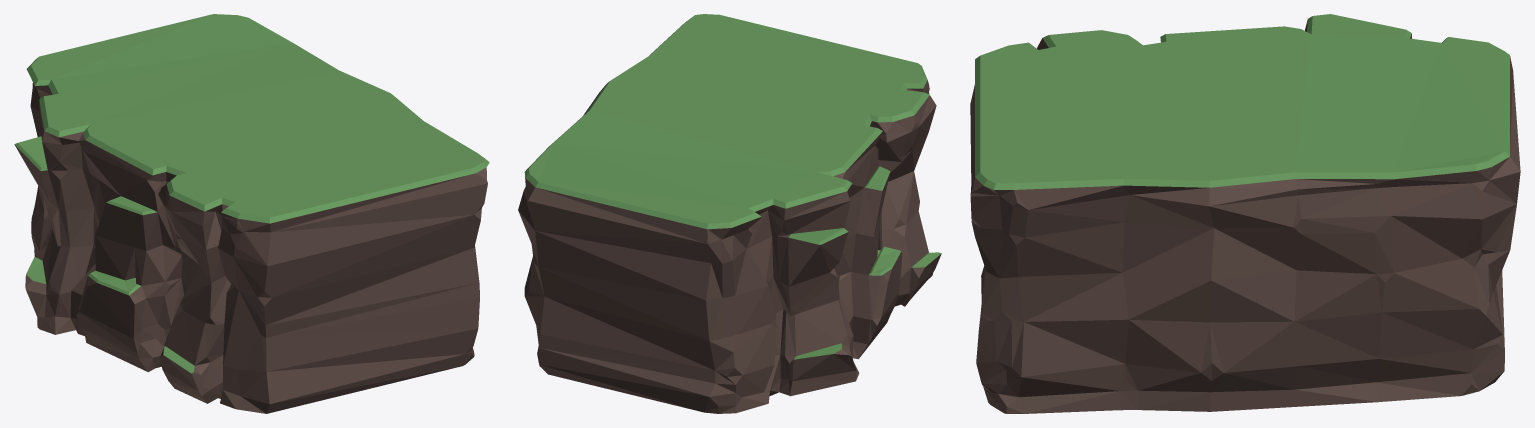
Rendered from Cliff L 3.fbx.
The picture shows the model from 3 angles, left to right: view 1: azimuth 30°, elevation 25°; view 2: azimuth 150°, elevation 25°; view 3: azimuth 270°, elevation 25°; orthographic projection. The views are drawn at different scales.
Parts seen in each view (by area): view 1: Cliff 11; view 2: Cliff 11; view 3: Cliff 11.
Part boxes in pixels (x1,y1,x2,y2): Cliff 11: (14,14,489,413); Cliff 11: (518,14,941,413); Cliff 11: (970,14,1520,413).
Bounding box in the file's own units: 171 × 103 × 217.
